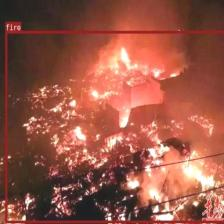fire: (5, 31, 224, 222)
